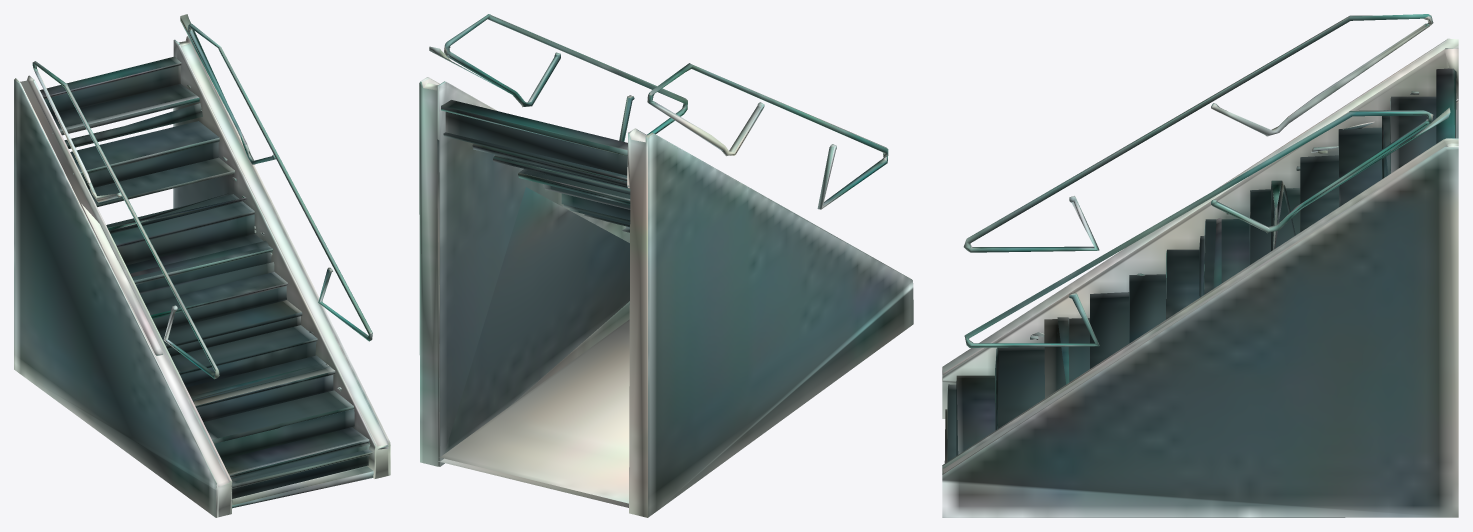
The model's file is stairs.lod2.glb.
3 renders of one model, left to right at view 1: azimuth 30°, elevation 25°; view 2: azimuth 150°, elevation 25°; view 3: azimuth 270°, elevation 25°, orthographic. The views are drawn at different scales.
Size of the model in its own units: 2 by 3.45 by 4.
1 material, 1 textured.
